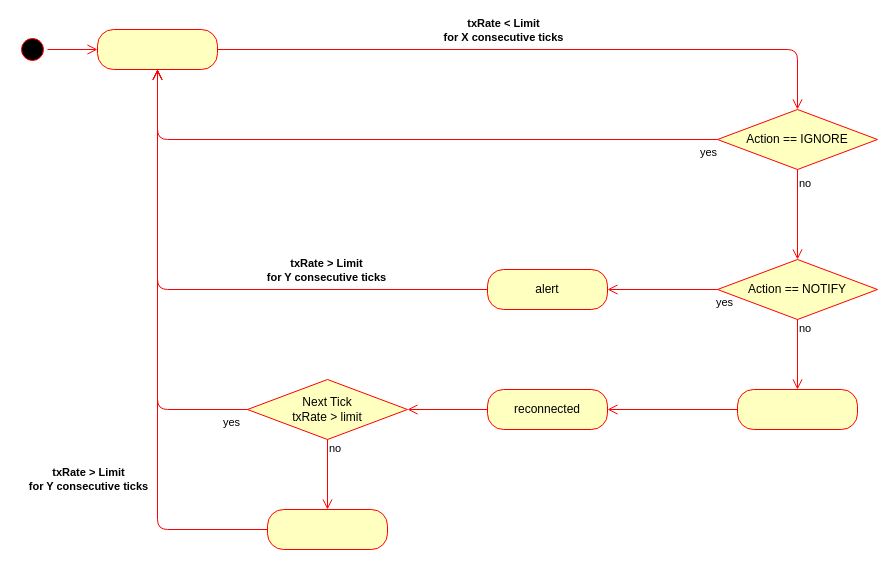
Some shapes in this 895 by 567 pixel diagram are drawn without their labels. The shapes that lost their labels are listed below. From the top down, each one's centre as x and y in pixels, then its label:
point (157, 49): clear
point (797, 409): reconnecting
point (327, 529): failed
